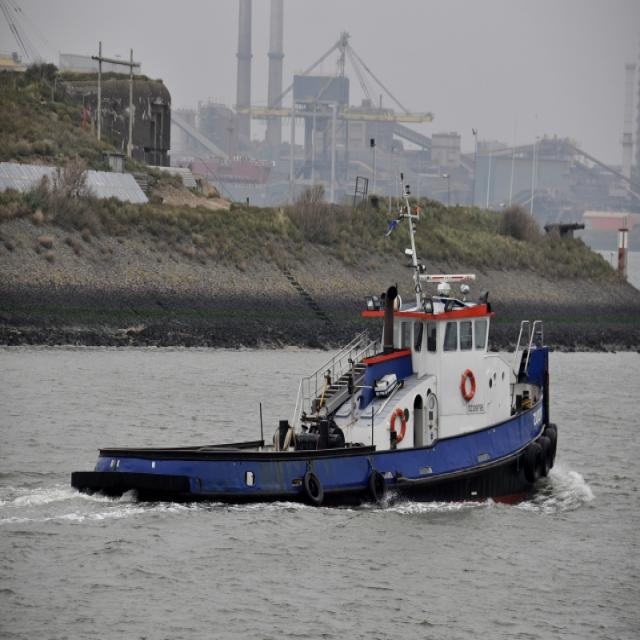tugboat: (69, 269, 563, 525)
